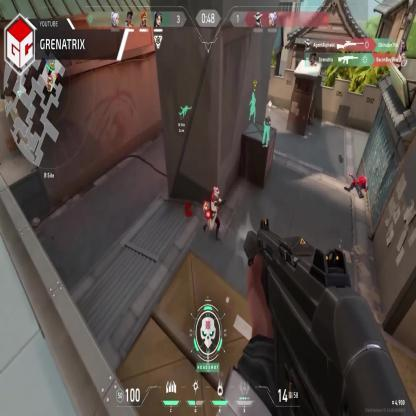enemy: (203, 186, 221, 238)
enemy_head: (214, 186, 219, 196)
